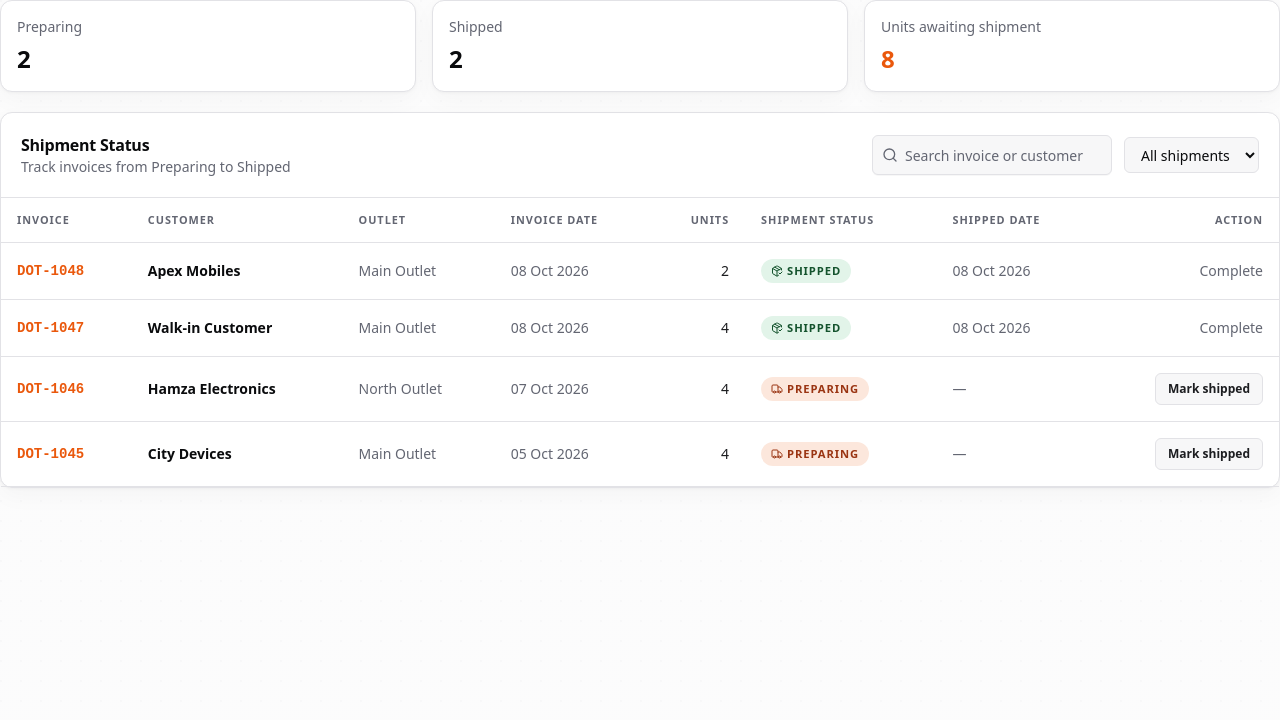
Test: sales invoice flow › tracks Preparing to Shipped without changing payment status
Expected: the text "Preparing" is shown, x1=17 y1=17 x2=82 y2=36
Click the button "Mark shipped" in the row of "DOT-1046" at (1209, 388), box x1=1155 y1=372 x2=1263 y2=404
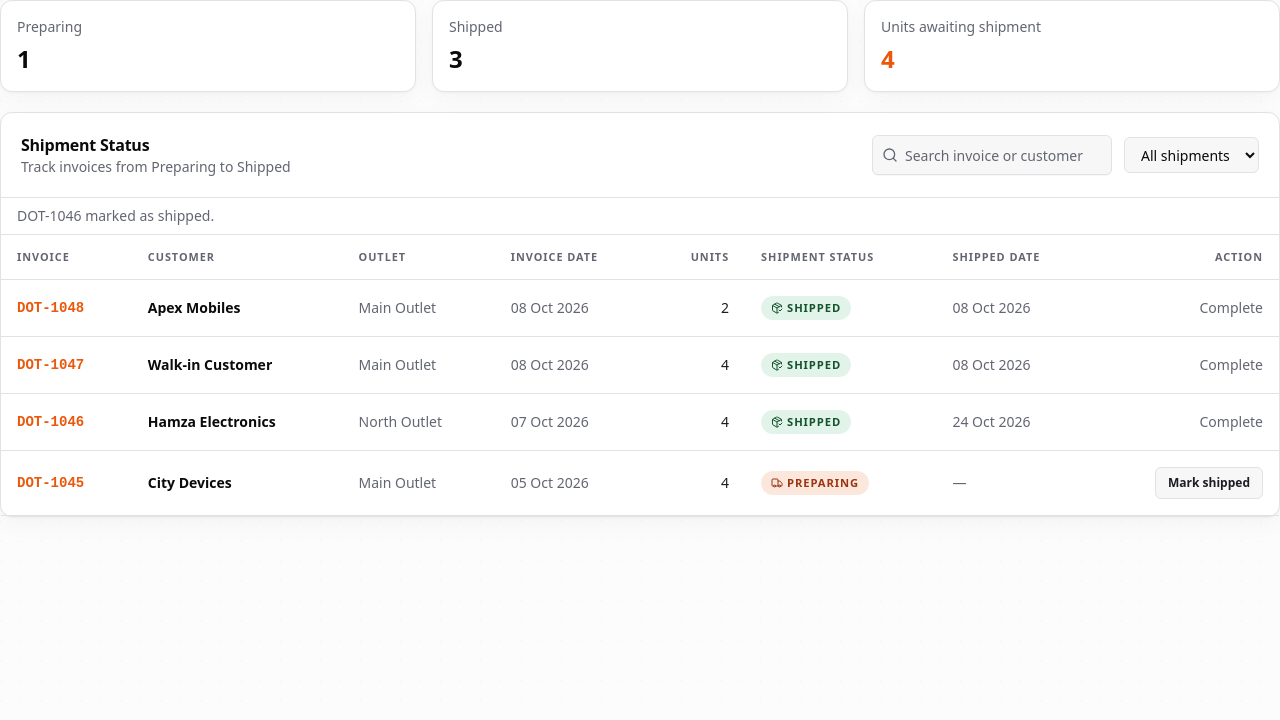
Expected: the text "Shipped" is shown, x1=449 y1=17 x2=503 y2=36
Expected: the message reads "DOT-1046 marked as shipped.", x1=17 y1=206 x2=214 y2=225
